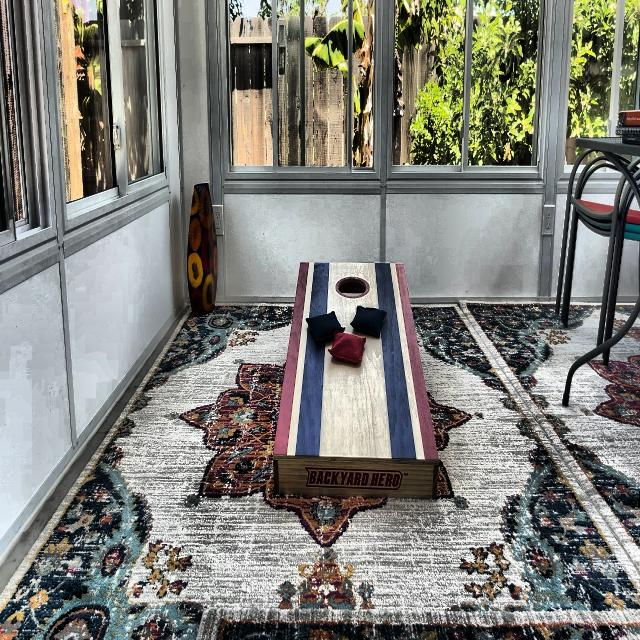blue-bean-bag: (306, 310, 345, 342), (351, 304, 386, 337)
board: (293, 263, 413, 457)
hole: (334, 274, 370, 299)
red-bean-bag: (327, 327, 367, 365)
